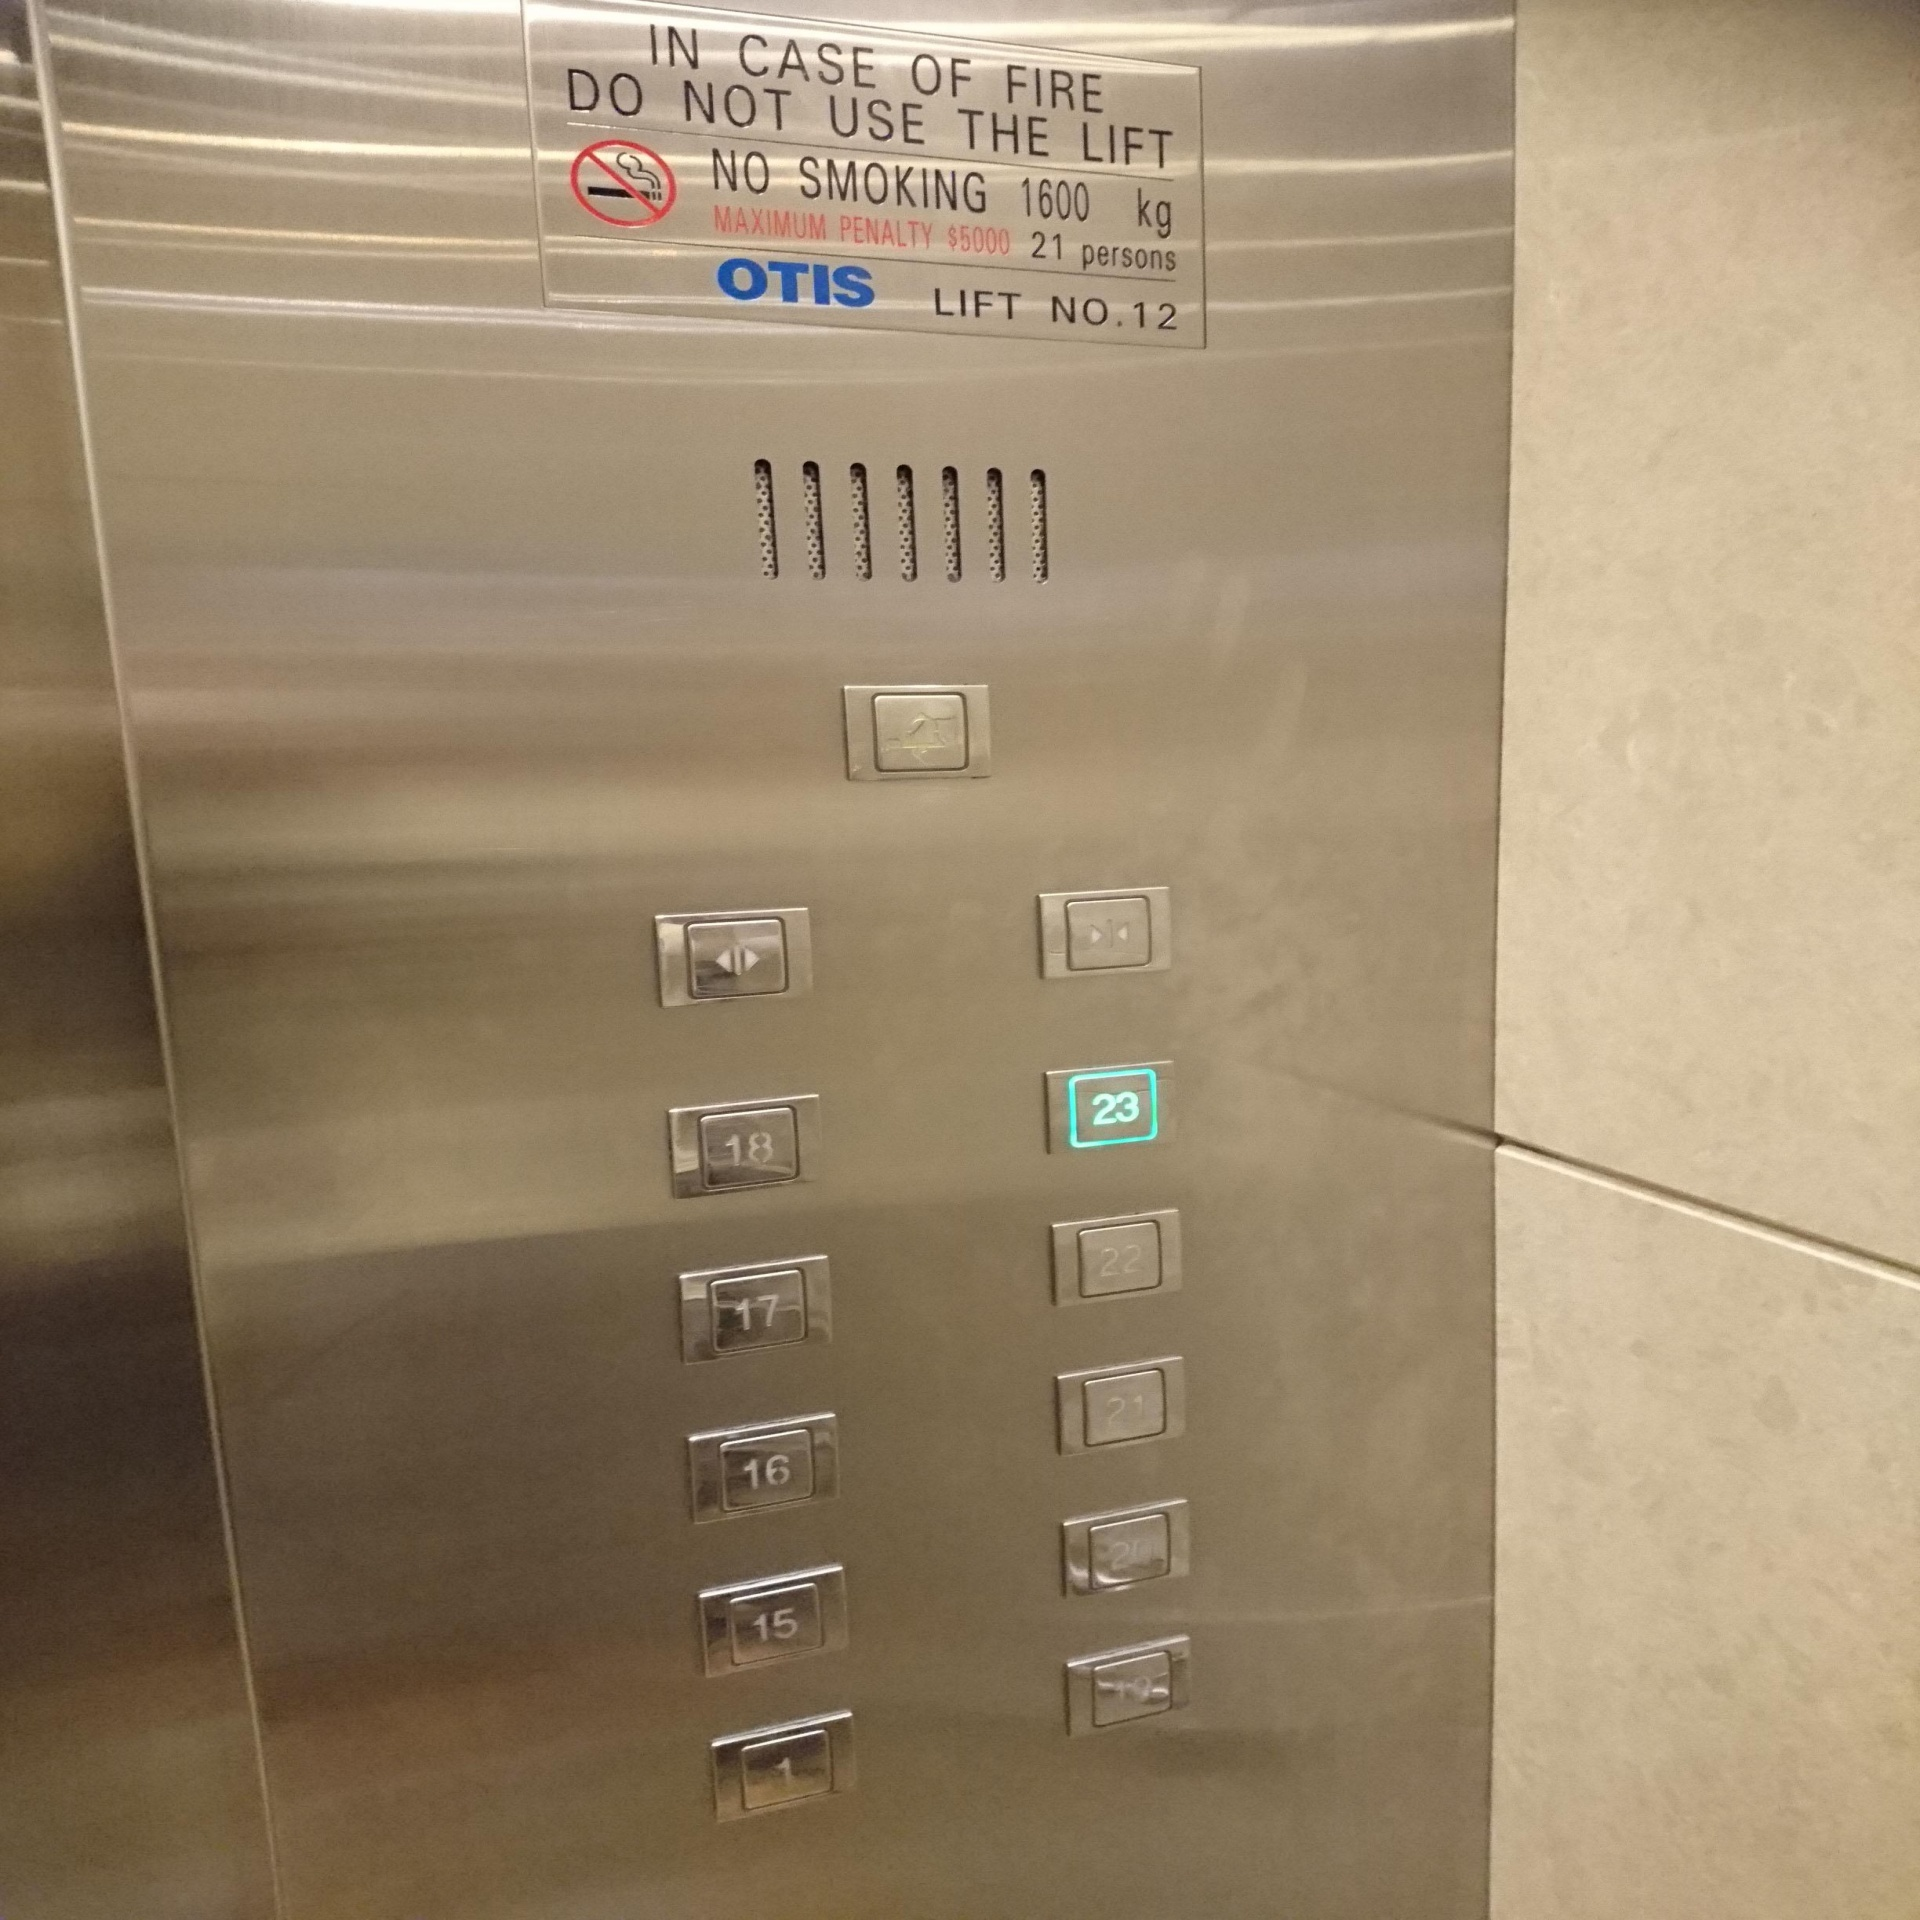1: (707, 1705, 860, 1827)
15: (691, 1563, 856, 1679)
16: (680, 1407, 851, 1526)
17: (663, 1252, 847, 1368)
18: (665, 1090, 837, 1199)
19: (1057, 1628, 1197, 1744)
20: (1057, 1493, 1196, 1605)
21: (1053, 1356, 1196, 1459)
22: (1043, 1206, 1190, 1308)
23: (1036, 1057, 1189, 1160)
alarm: (833, 680, 1000, 788)
close: (1029, 883, 1182, 985)
open: (645, 904, 825, 1015)
